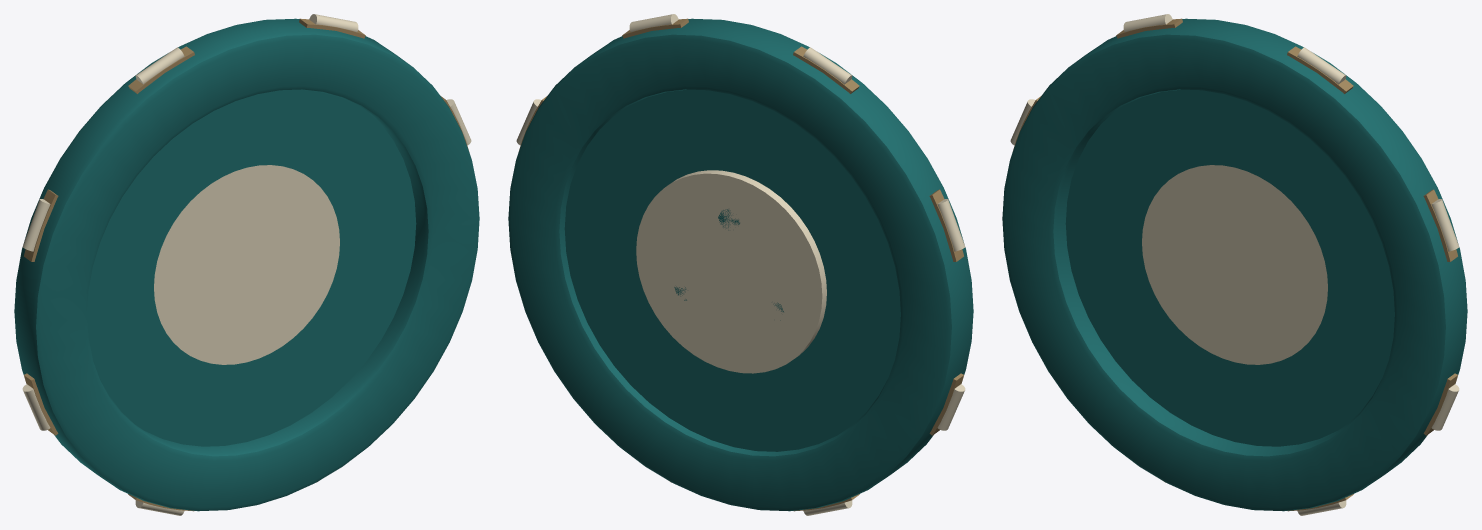
The model's file is k5_lashing_ring.obj.
3 renders of one model, left to right at view 1: azimuth 30°, elevation 25°; view 2: azimuth 150°, elevation 25°; view 3: azimuth 330°, elevation 25°, orthographic.
Parts seen in each view (by area): view 1: k5_lashing_ring; view 2: k5_lashing_ring; view 3: k5_lashing_ring.
Part boxes in pixels (bbox=[...]): k5_lashing_ring: bbox=[14, 14, 479, 515]; k5_lashing_ring: bbox=[508, 14, 973, 515]; k5_lashing_ring: bbox=[1002, 14, 1467, 515].
Size of the model in its own units: 1.66 by 1.66 by 0.1512.
